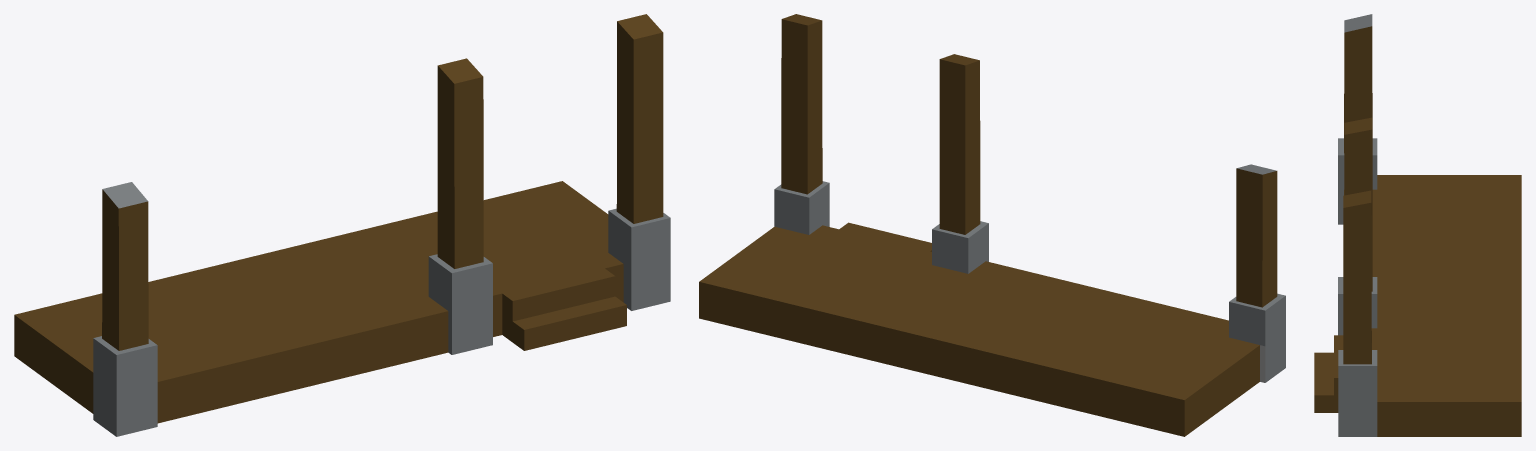
The model's file is Porch.fbx.
The picture shows the model from 3 angles, left to right: view 1: azimuth 30°, elevation 25°; view 2: azimuth 150°, elevation 25°; view 3: azimuth 270°, elevation 25°; orthographic projection. The views are drawn at different scales.
Visible parts, largest first — view 1: Porch; view 2: Porch; view 3: Porch.
Boxes of the visible parts, <box> form: Porch: <box>14,14,670,436</box>; Porch: <box>699,14,1285,436</box>; Porch: <box>1314,14,1521,436</box>.
Bounding box in the file's own units: 27.5 × 13.01 × 10.5.
